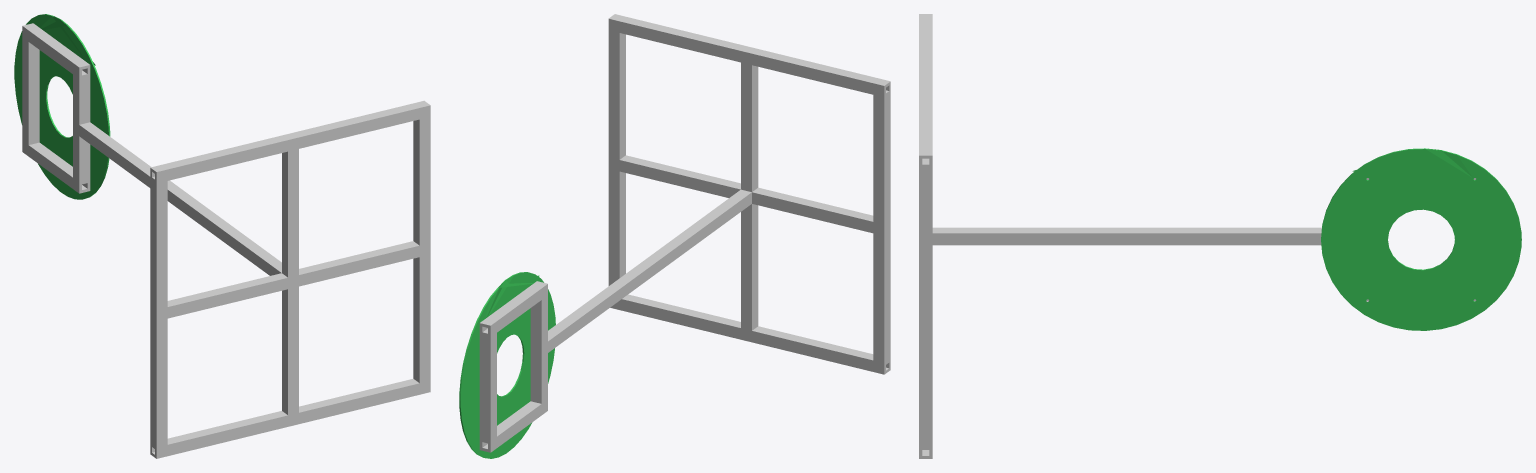
Rendered from tc6_big_target.dae.
3 renders of one model, left to right at view 1: azimuth 30°, elevation 25°; view 2: azimuth 150°, elevation 25°; view 3: azimuth 270°, elevation 25°, orthographic. The views are drawn at different scales.
Visible parts, largest first — view 1: node0; view 2: node0; view 3: node0.
Boxes of the visible parts, x1,y1,x2,y2 form: node0: (14,14,430,458); node0: (459,14,890,458); node0: (919,14,1521,458).
Bounding box in the file's own units: 1 × 1.8 × 1.
